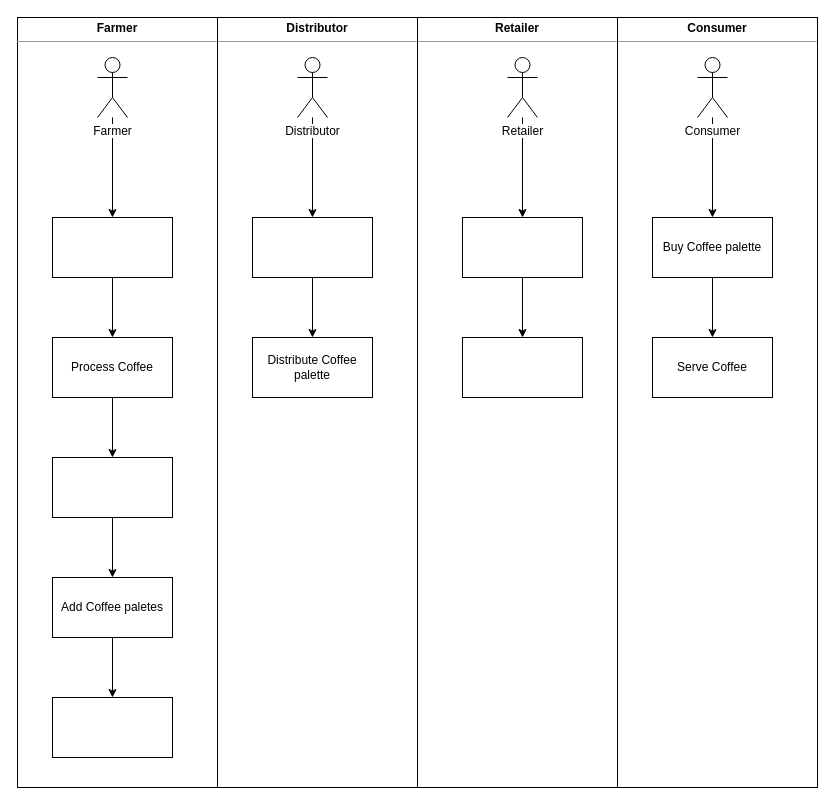
Image size: 835x805. Some labels were removed from this diagram. Here are the shapes that lost their labels. From the top down, the box of each, then its label:
(52, 216, 172, 278): Harvest Coffee
(252, 216, 372, 278): Receive Coffee pallete
(462, 216, 582, 278): Receive Coffee palette
(462, 336, 582, 398): Sell Coffee palette
(52, 456, 172, 518): Pack Coffee
(52, 696, 172, 758): Ship Coffee paletes
